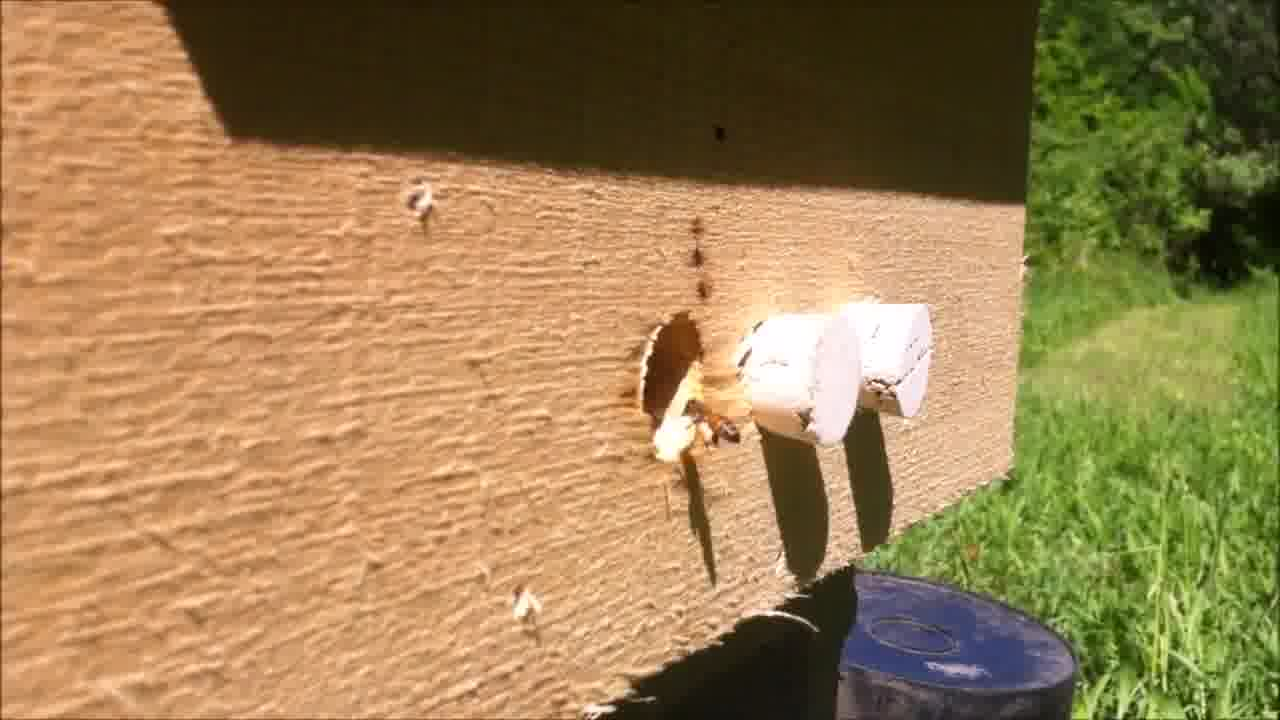pollen: (675, 393, 747, 451)
